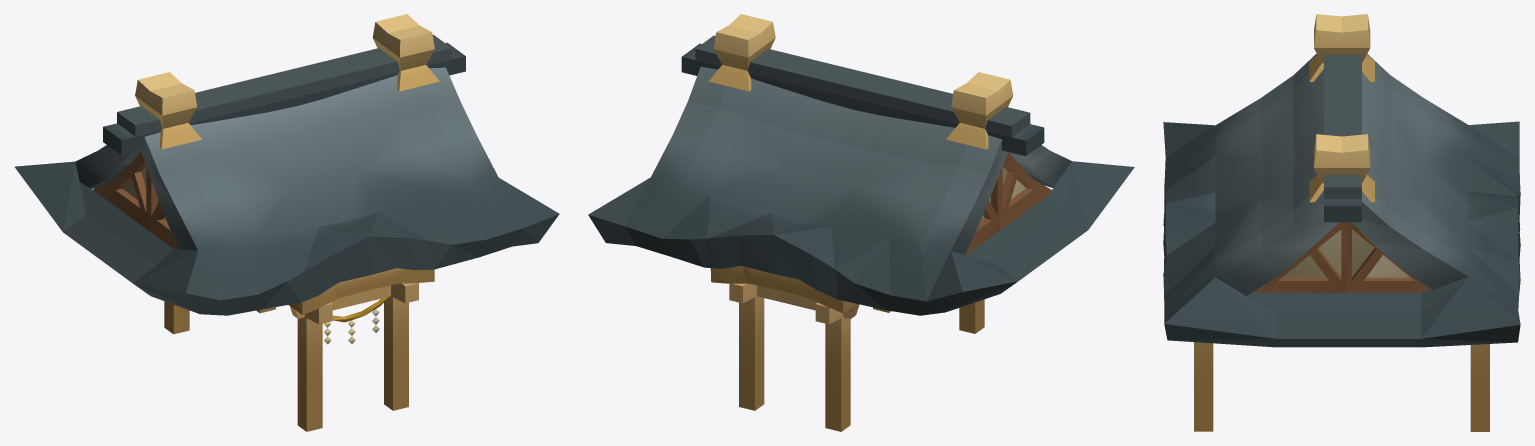
The model's file is Shrine_Roof_wSupport.gltf.
3 views of the same model, side by side, from view 1: azimuth 30°, elevation 25°; view 2: azimuth 150°, elevation 25°; view 3: azimuth 270°, elevation 25° (orthographic). The views are drawn at different scales.
Visible parts, largest first — view 1: Shrine_Roof_wSupport; view 2: Shrine_Roof_wSupport; view 3: Shrine_Roof_wSupport.
Boxes of the visible parts, <box> form: Shrine_Roof_wSupport: <box>14,14,559,431</box>; Shrine_Roof_wSupport: <box>588,14,1134,431</box>; Shrine_Roof_wSupport: <box>1163,14,1520,431</box>.
Size of the model in its own units: 5.92 by 4.66 by 4.67.
Materials: 1 (1 with a texture image).
